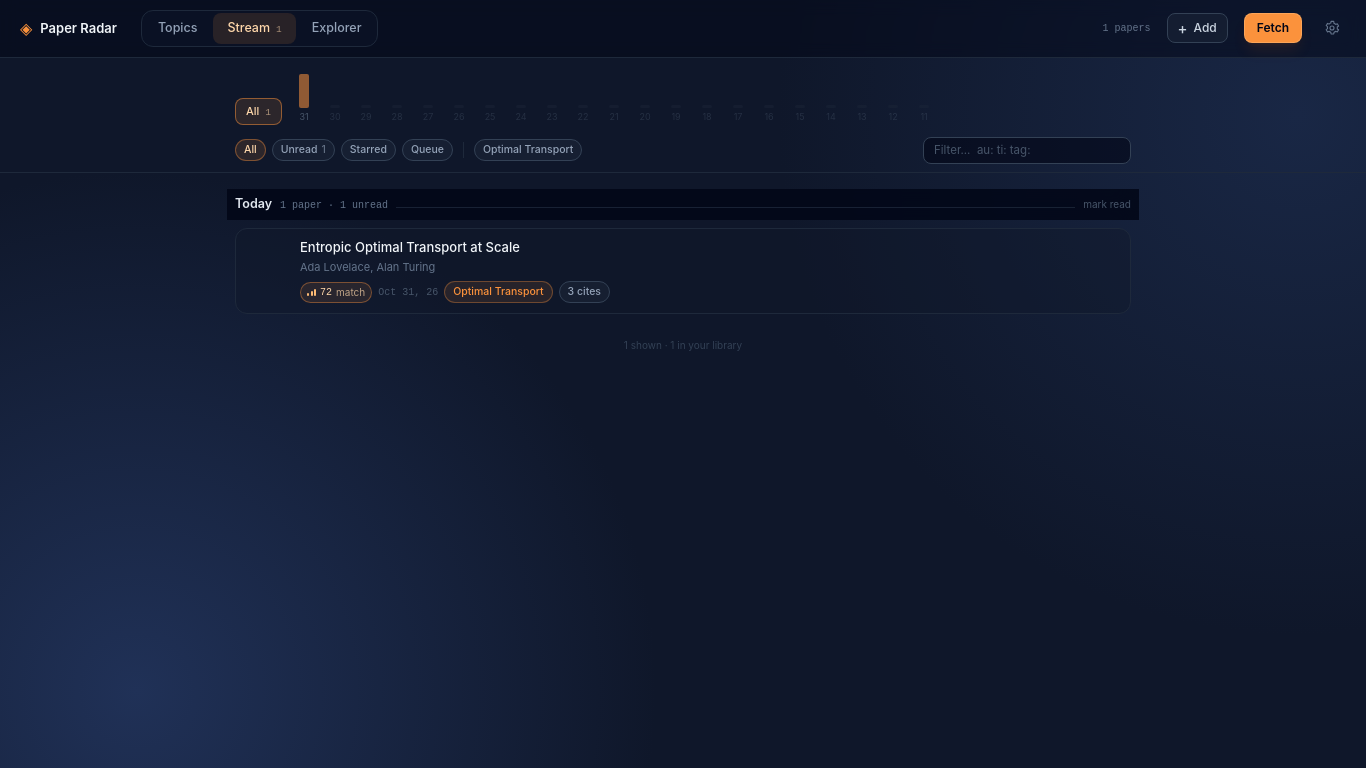
the Stream appears in the Explorer as a read-only date tree
This screenshot has width=1366, height=768.
Click the tab with test id "tab-explorer": (337, 28) x1=298 y1=13 x2=376 y2=44
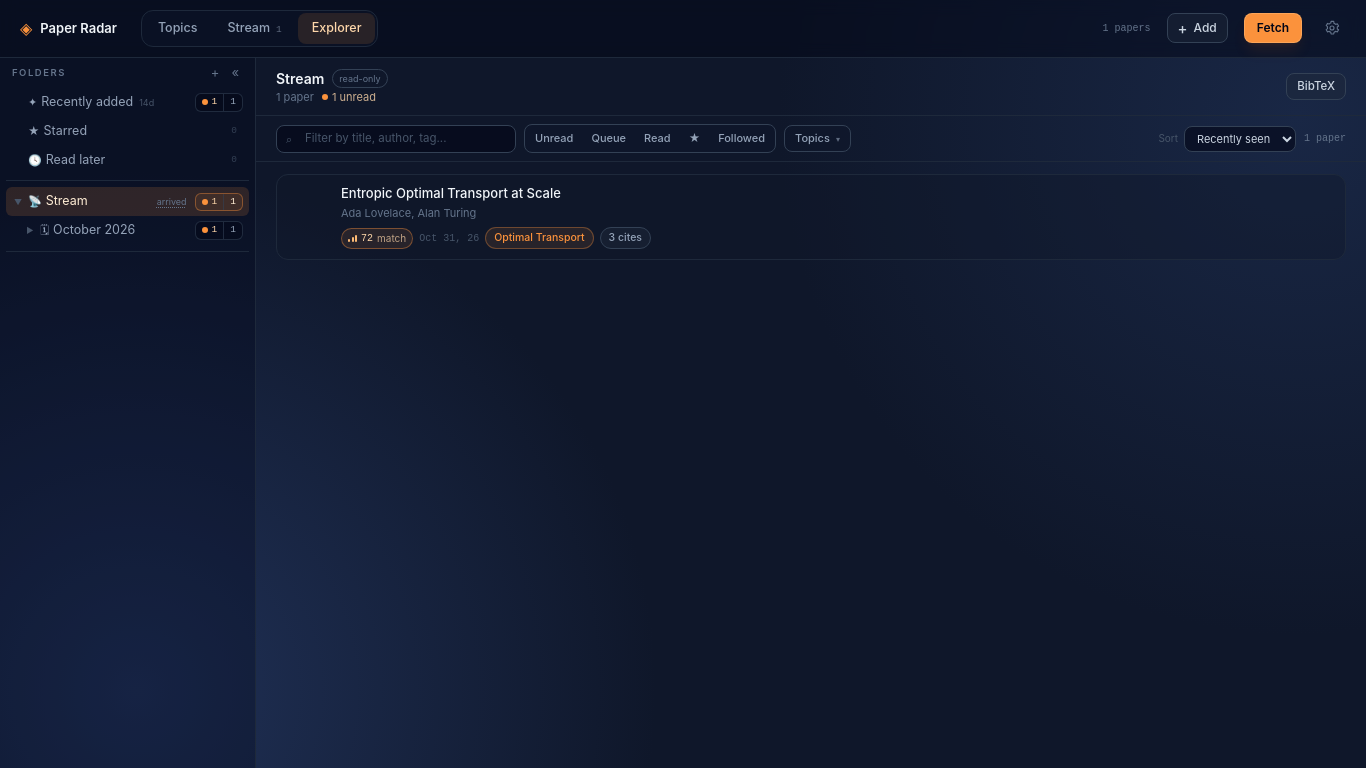
Now the element with test id "folder-node-stream:root" shows "Stream", box x1=46 y1=193 x2=88 y2=208
Now the text "read-only" is shown, box x1=332 y1=68 x2=388 y2=88
Now the element with test id "^folder-node-stream:\\d{4}-\\d{2}$" is shown
// Months open into weeks, weeks into days — all read-only.
Click the element with test id "^folder-node-stream:\\d{4}-\\d{2}$": (128, 230) x1=6 y1=216 x2=249 y2=245
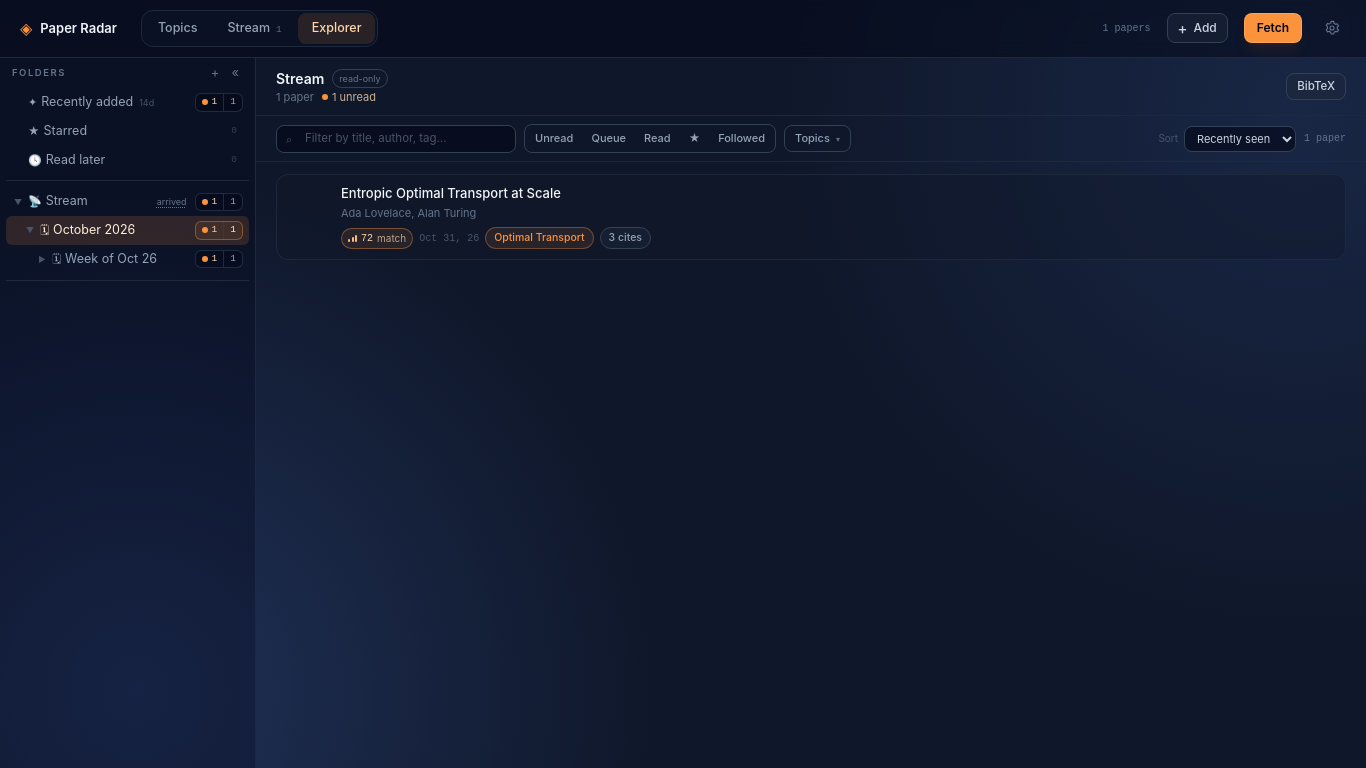
Now the element with test id "^folder-node-stream:\\d{4}-\\d{2}\\|" is shown, box x1=38 y1=250 x2=243 y2=268
